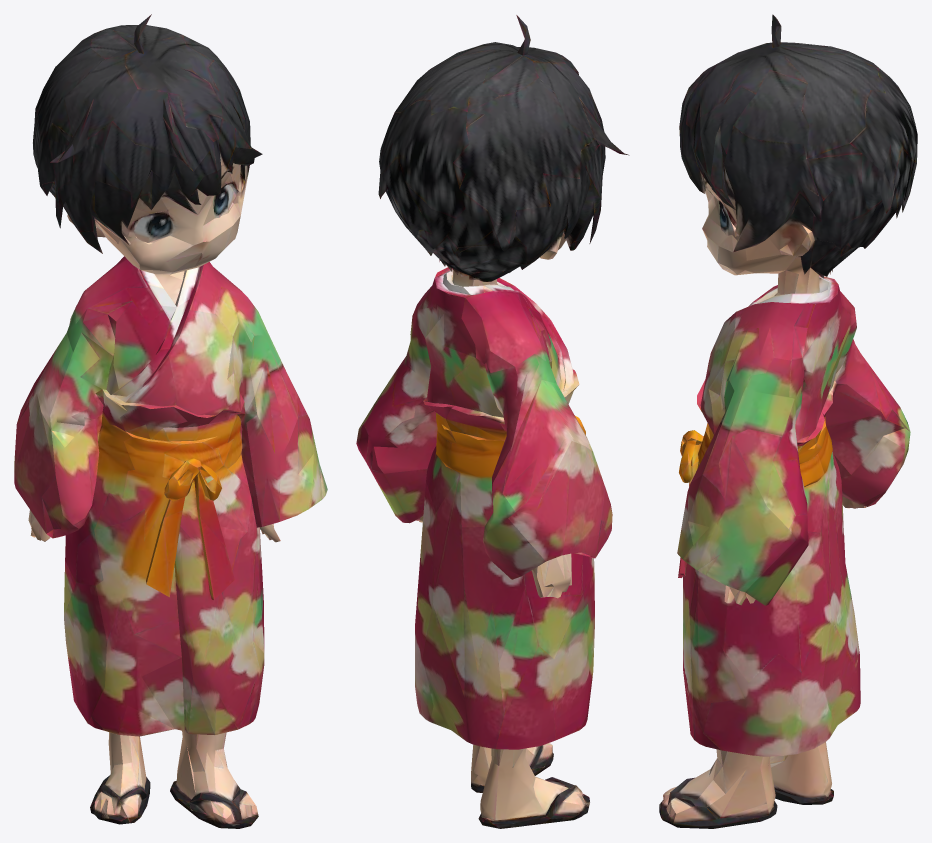
Rendered from villager_child.glb.
3 views of the same model, side by side, from view 1: azimuth 30°, elevation 25°; view 2: azimuth 150°, elevation 25°; view 3: azimuth 270°, elevation 25° (orthographic).
Size of the model in its own units: 0.6647 by 1.9 by 0.5658.
Materials: 1 (1 with a texture image).
